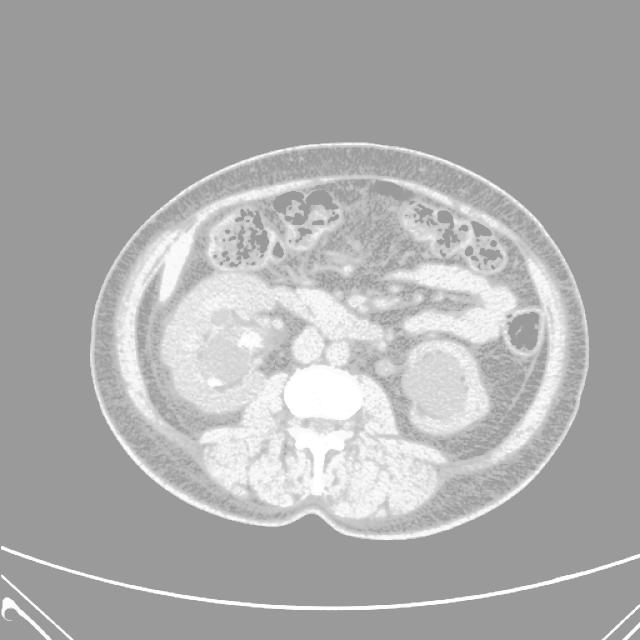STONE: (205, 161, 561, 363)
